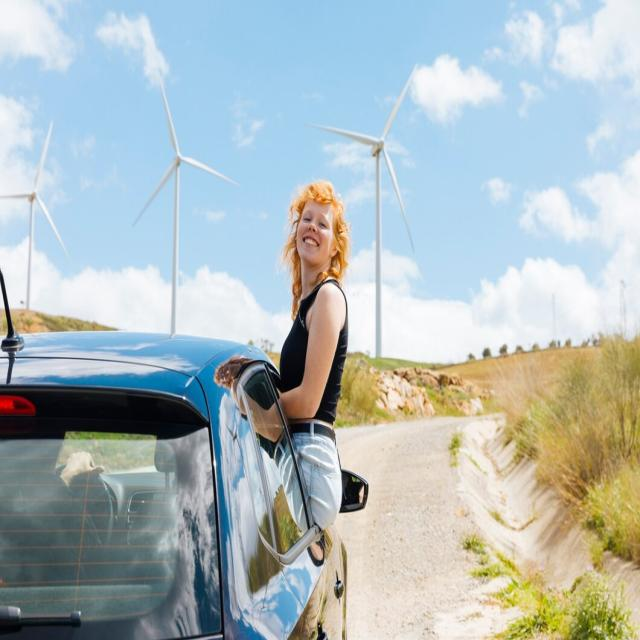solid-blade: (383, 150, 414, 249), (132, 159, 176, 226), (381, 66, 415, 138), (159, 79, 180, 153), (182, 155, 234, 184), (308, 125, 379, 145)
